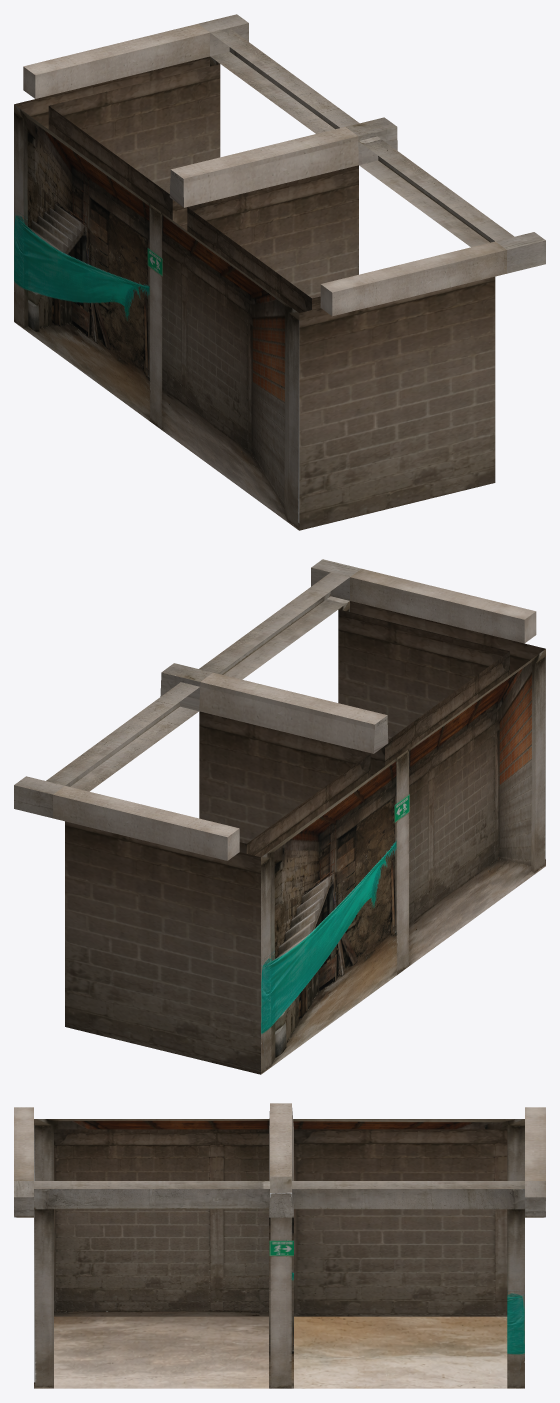
Rendered from casa_derecha_13.fbx.
The picture shows the model from 3 angles, top to bottom: view 1: azimuth 30°, elevation 25°; view 2: azimuth 150°, elevation 25°; view 3: azimuth 270°, elevation 25°; orthographic projection. The views are drawn at different scales.
Parts seen in each view (by area): view 1: casa_derecha_13; view 2: casa_derecha_13; view 3: casa_derecha_13.
Part boxes in pixels (<box>): casa_derecha_13: <box>14,14,545,530</box>; casa_derecha_13: <box>14,559,545,1074</box>; casa_derecha_13: <box>14,1103,545,1388</box>.
Bounding box in the file's own units: 441 × 442 × 1005.
